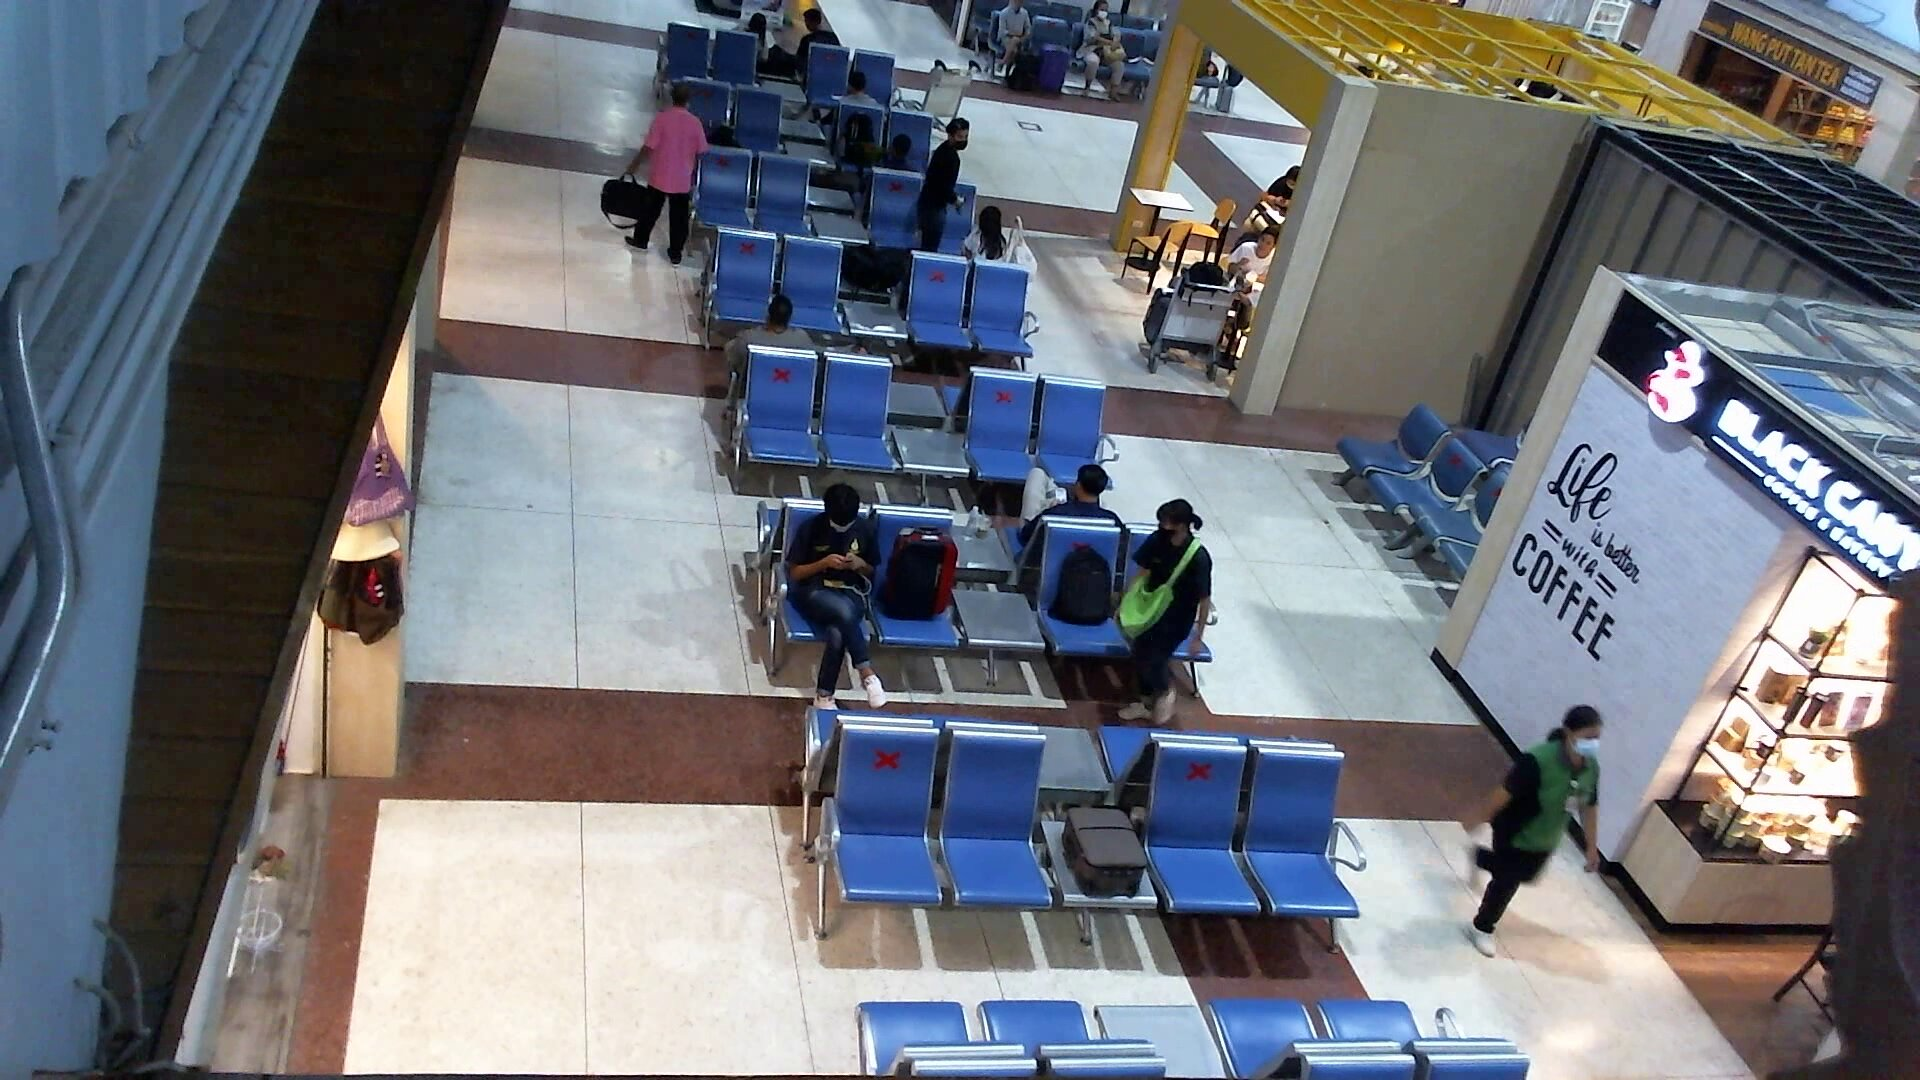backpack: (1038, 539, 1119, 636)
bag: (1113, 563, 1180, 639), (599, 166, 657, 230)
luggage: (1051, 801, 1159, 895), (873, 514, 961, 628)
people: (1448, 689, 1623, 969), (1099, 498, 1228, 724), (793, 485, 899, 736), (609, 95, 717, 259), (900, 99, 981, 259)
